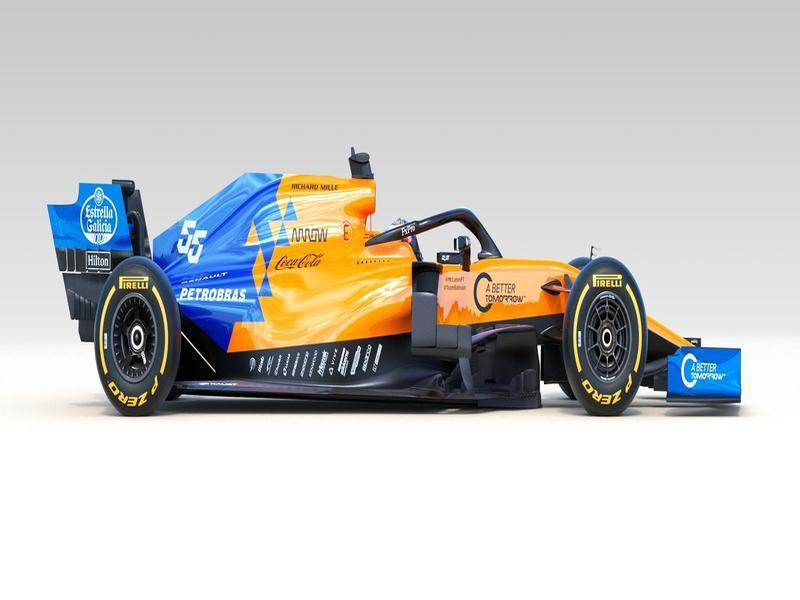f1: (44, 142, 772, 450)
